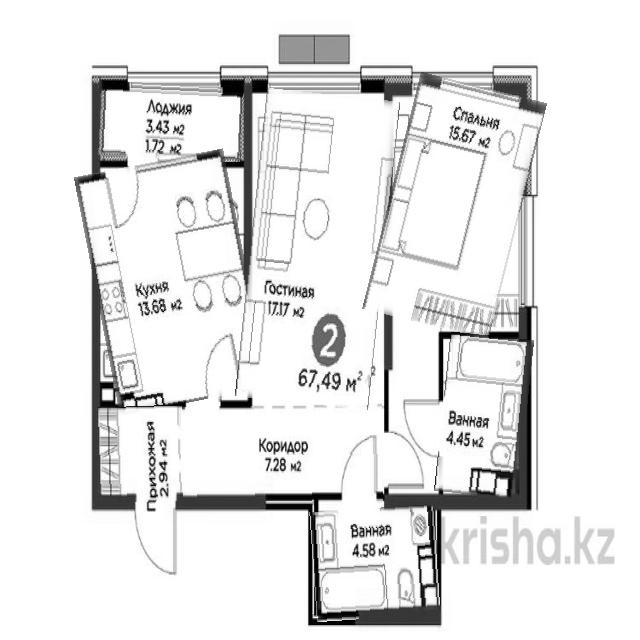balcony: (96, 82, 243, 161)
bathroom: (438, 334, 530, 498), (311, 506, 440, 620)
hallway: (183, 404, 383, 505), (98, 406, 184, 502)
kitchen: (85, 154, 258, 409)
living_room: (243, 91, 393, 407), (376, 78, 534, 334)
